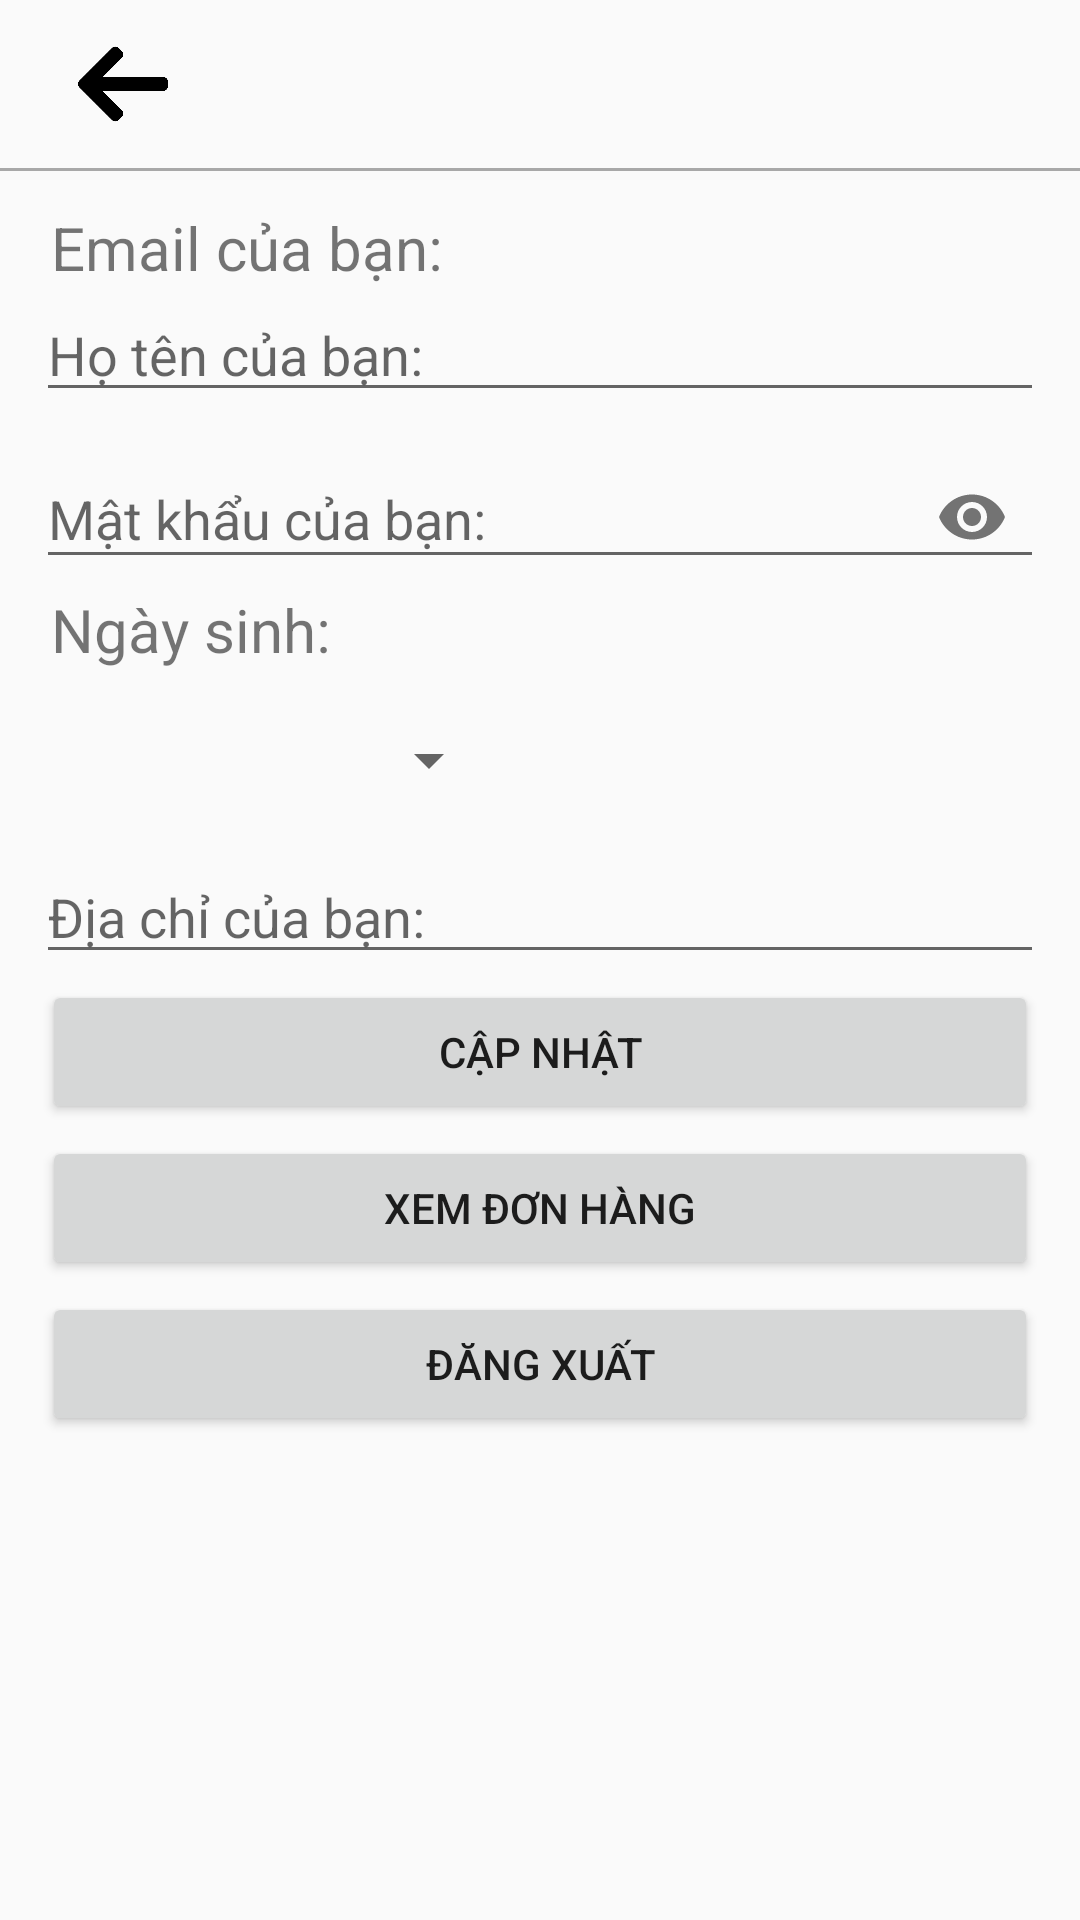

Screen size 1080w x 1920h. Icon name, then its center in pixels as (x=x, y=y):
left arrow: (x=123, y=84)
